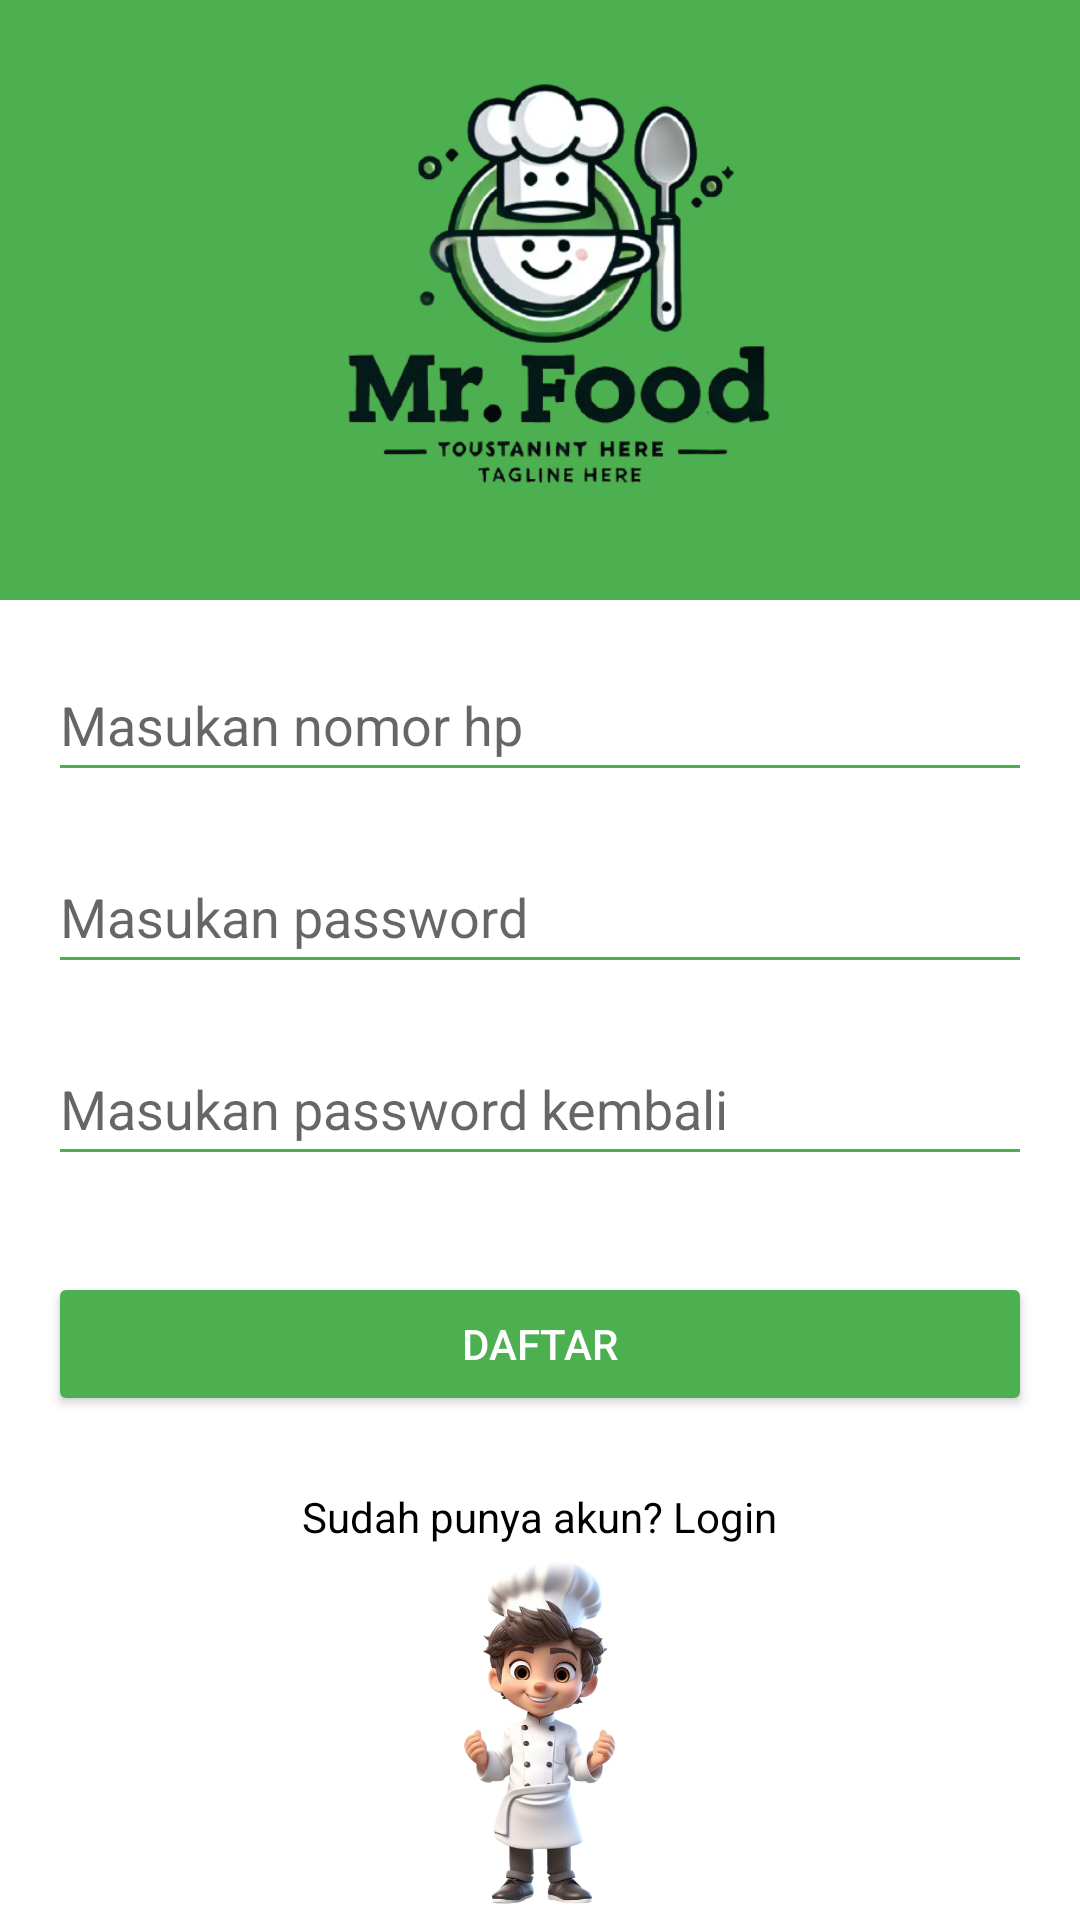

Locate icon controls on the screen. Image size 1080w x 1920h, boxes as bbox(x1, y1, x2, y2).
orang: bbox(464, 1565, 615, 1904)
